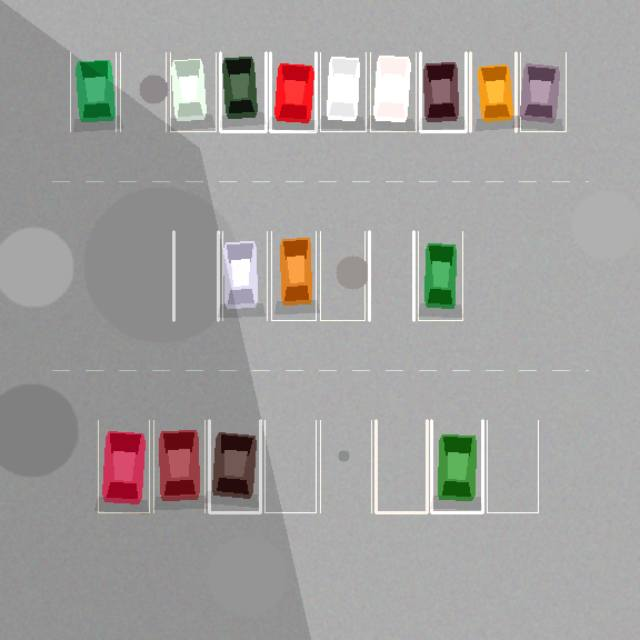space-empty: (264, 420, 316, 512), (320, 420, 371, 512), (376, 420, 427, 512), (487, 420, 538, 512), (173, 231, 218, 320), (320, 231, 364, 320), (369, 231, 413, 320), (120, 52, 166, 131)
space-occupied: (98, 420, 149, 512), (153, 420, 204, 512), (209, 420, 260, 512), (431, 420, 482, 512), (222, 231, 267, 320), (271, 231, 316, 320), (418, 231, 462, 320), (70, 52, 116, 131), (170, 52, 216, 131), (220, 52, 266, 131), (270, 52, 316, 131), (320, 52, 366, 131), (370, 52, 416, 131), (420, 52, 466, 131), (470, 52, 516, 131), (520, 52, 566, 131)
